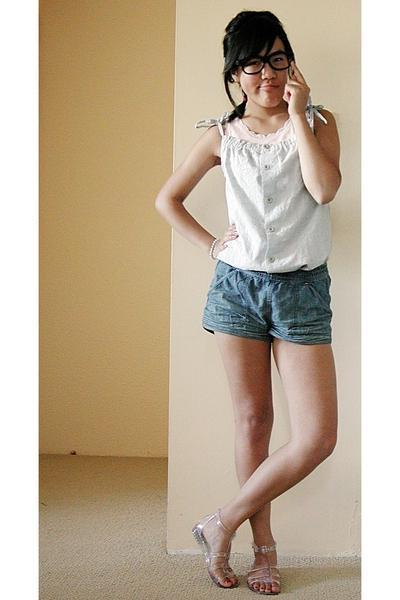Shorts: (194, 262, 341, 344)
short sleeve shirt: (206, 102, 333, 275)
